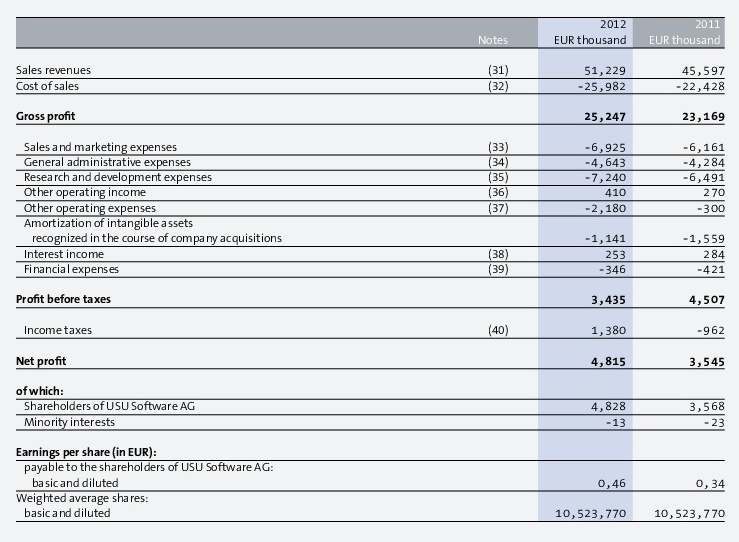table: (0, 0, 739, 542)
